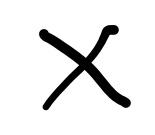mult: (39, 23, 131, 110)
